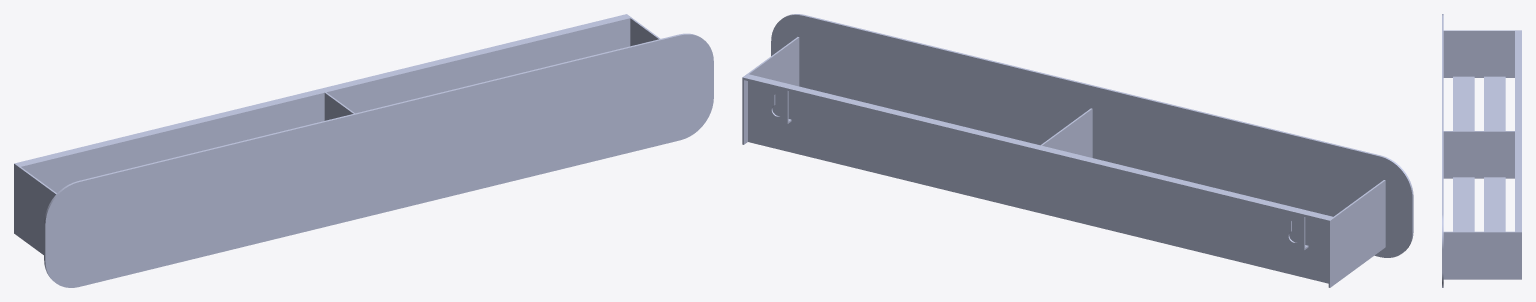
File: radius-mono.133fdb5856.glb
The picture shows the model from 3 angles, left to right: view 1: azimuth 30°, elevation 25°; view 2: azimuth 150°, elevation 25°; view 3: azimuth 270°, elevation 25°; orthographic projection. The views are drawn at different scales.
Visible parts, largest first — view 1: NAUO1; view 2: NAUO1; view 3: NAUO1.
Part boxes in pixels (x1,y1,x2,y2): NAUO1: (14, 14, 713, 287); NAUO1: (742, 14, 1413, 287); NAUO1: (1442, 14, 1521, 287).
Bounding box in the file's own units: 0.6 × 0.09 × 0.092.
